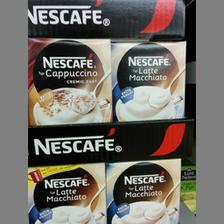Kaffee: (28, 37, 112, 123), (112, 38, 188, 122), (106, 159, 178, 223), (28, 164, 104, 222)
